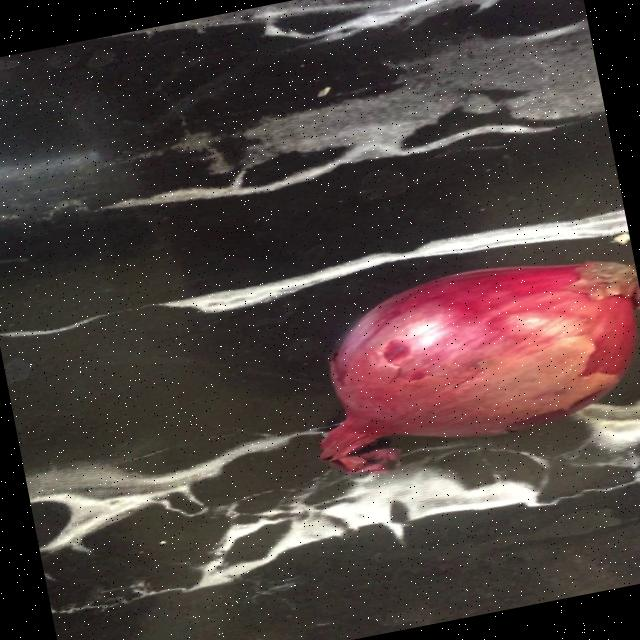Onion: (320, 261, 639, 473)
